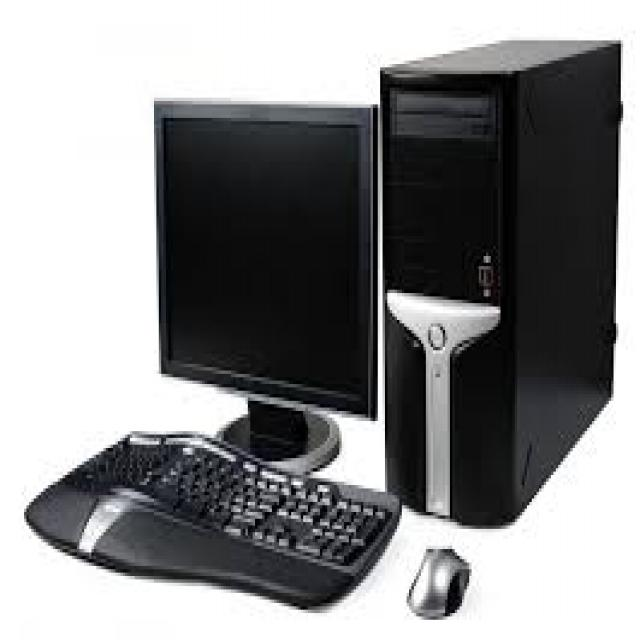Computer: (372, 24, 629, 544)
Monitor: (148, 88, 380, 421)
